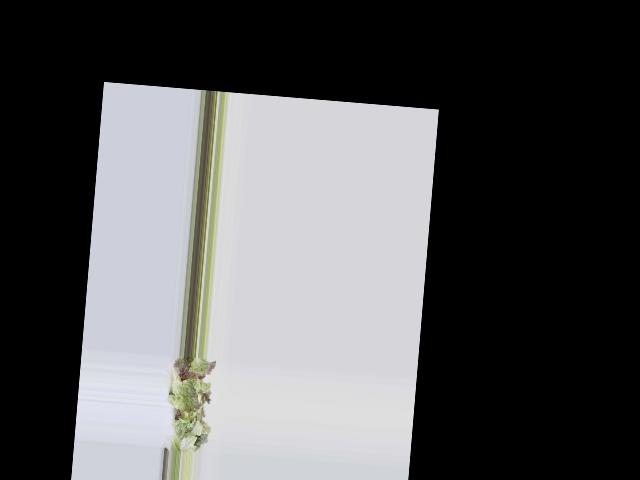lettuce: (170, 359, 212, 448)
